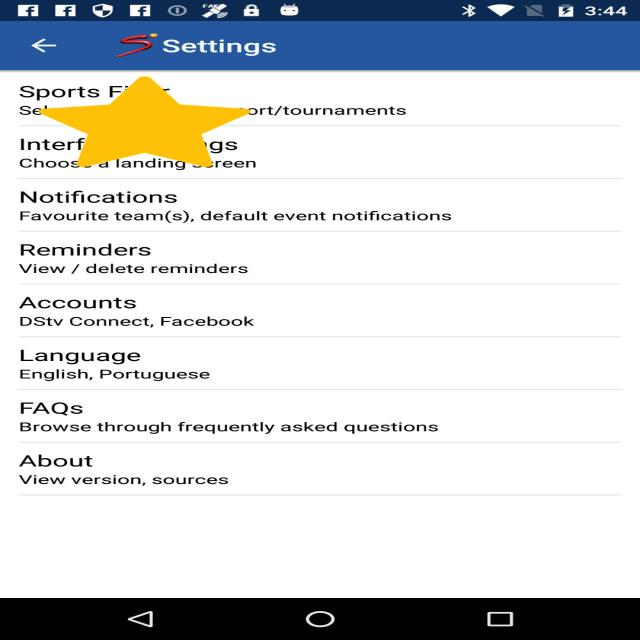forced continuity: (38, 76, 250, 167)
